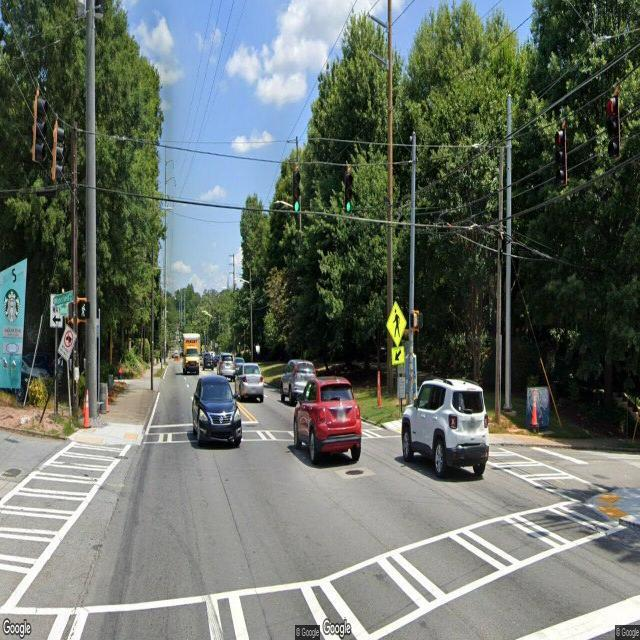seating: (96, 400, 104, 412)
trash_can: (100, 382, 108, 414)
